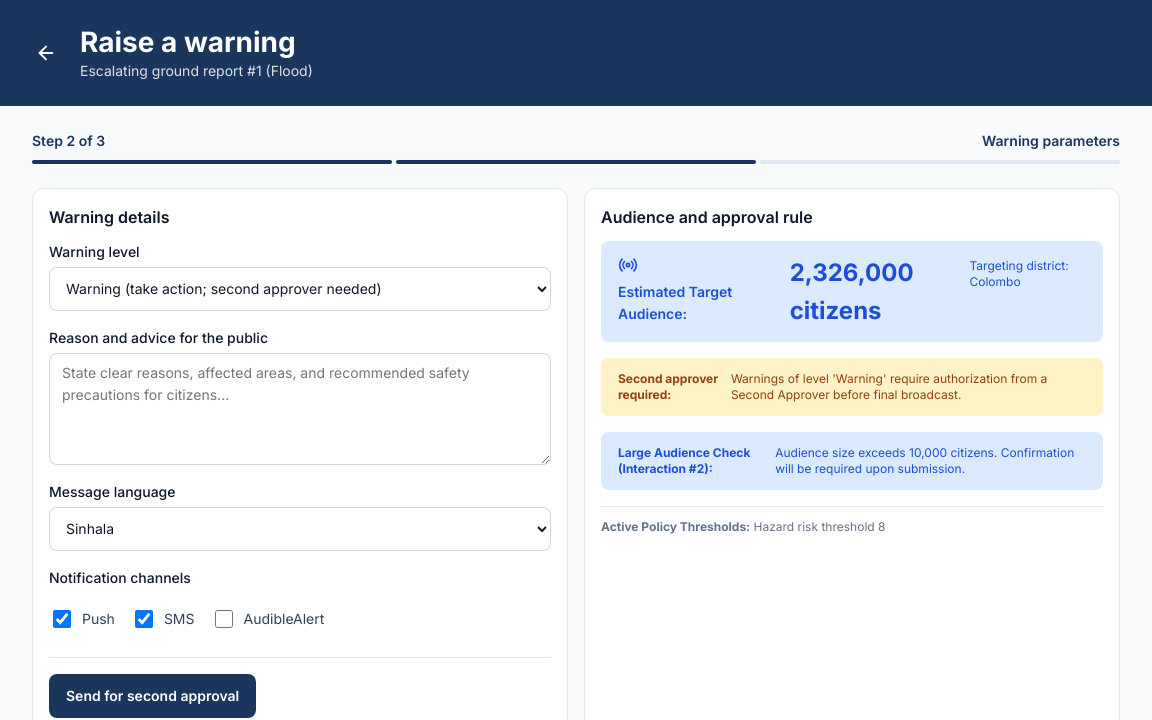
Test: WarningPreviewPage › should confirm a large audience before sending, and show a failed send
The width and height of the screenshot is (1152, 720).
Type "Severe flooding expected" into the text box labelled "Reason and advice for the public" at (300, 409), box 49,353 -> 551,465
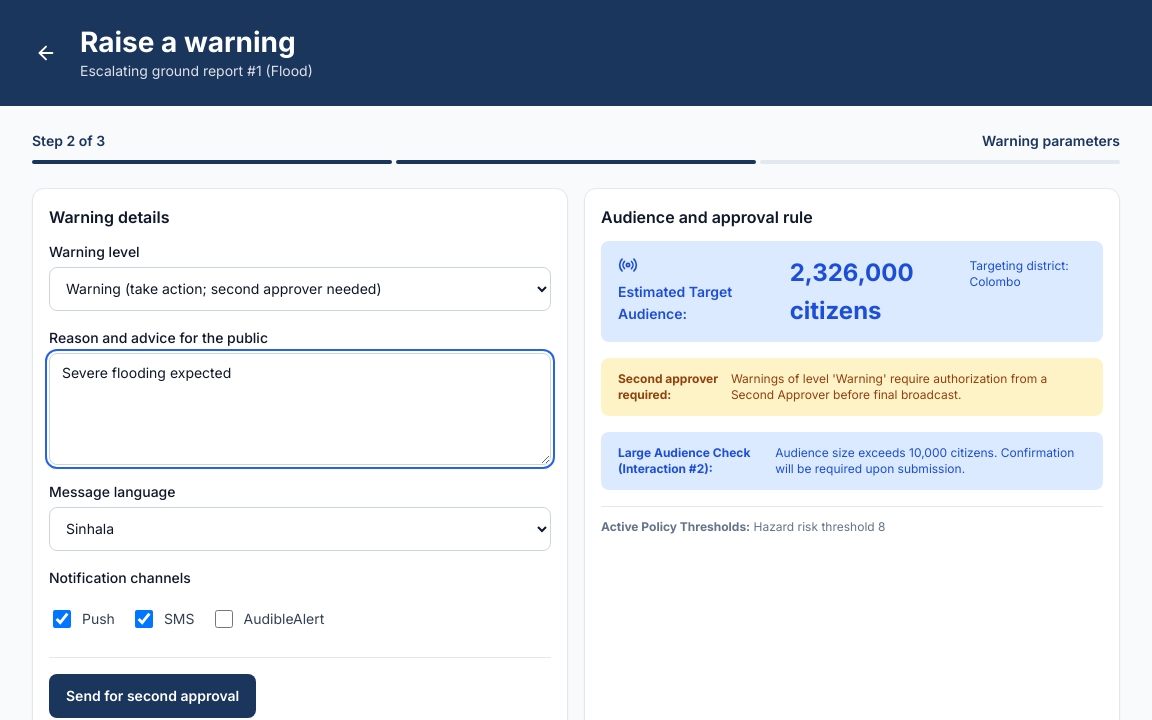
Click the button "Send for second approval" at (153, 696), box 49,674 -> 256,718
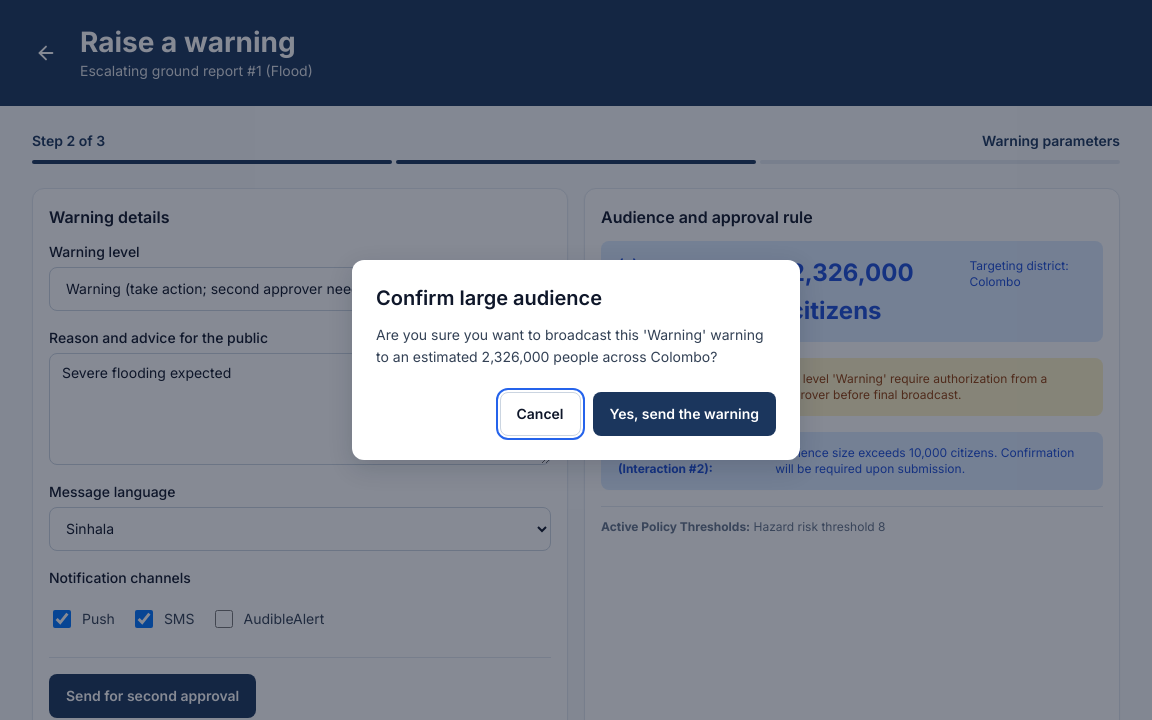
Check: the text "Second approver required:" is shown, box 618,371 -> 719,403
Check: the heading "Confirm large audience" is shown, box 376,286 -> 602,310
Click the button "Yes, send the warning" at (684, 414), box 592,392 -> 776,436
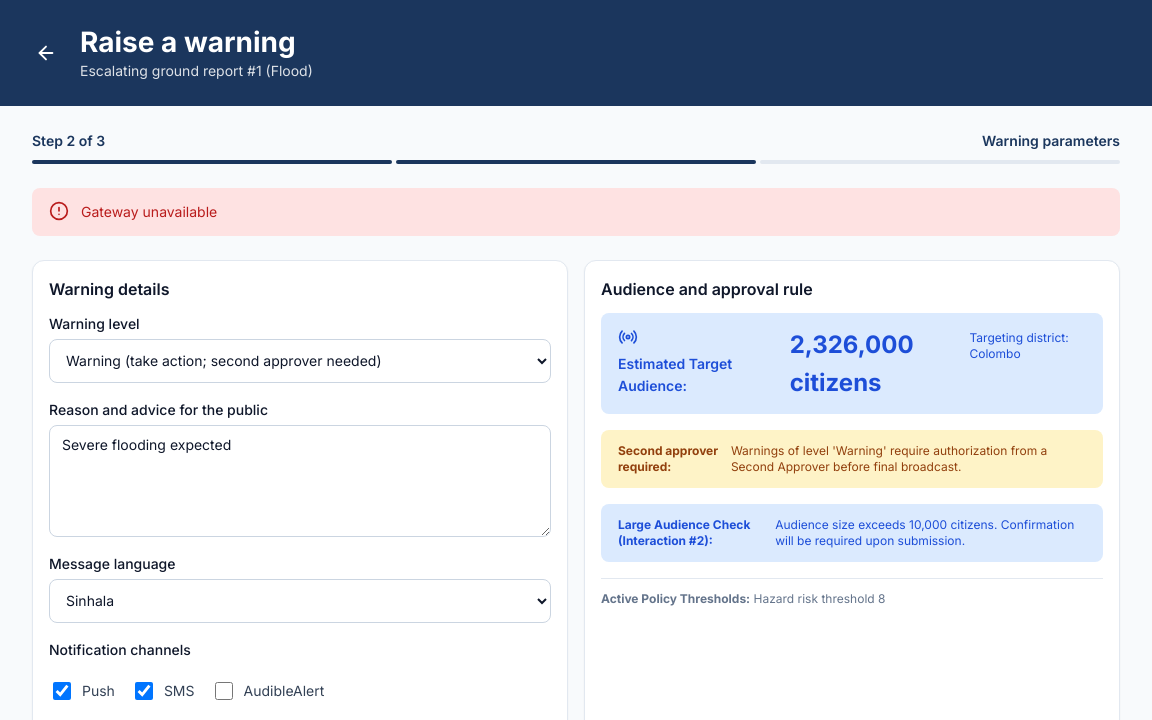
Check: the text "Gateway unavailable" is shown, box 81,203 -> 217,220
